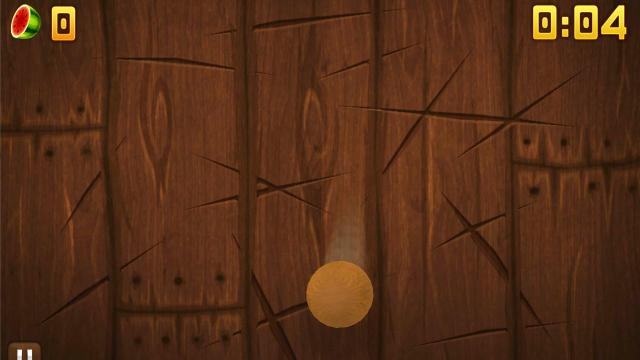fruit: (300, 258, 380, 330)
